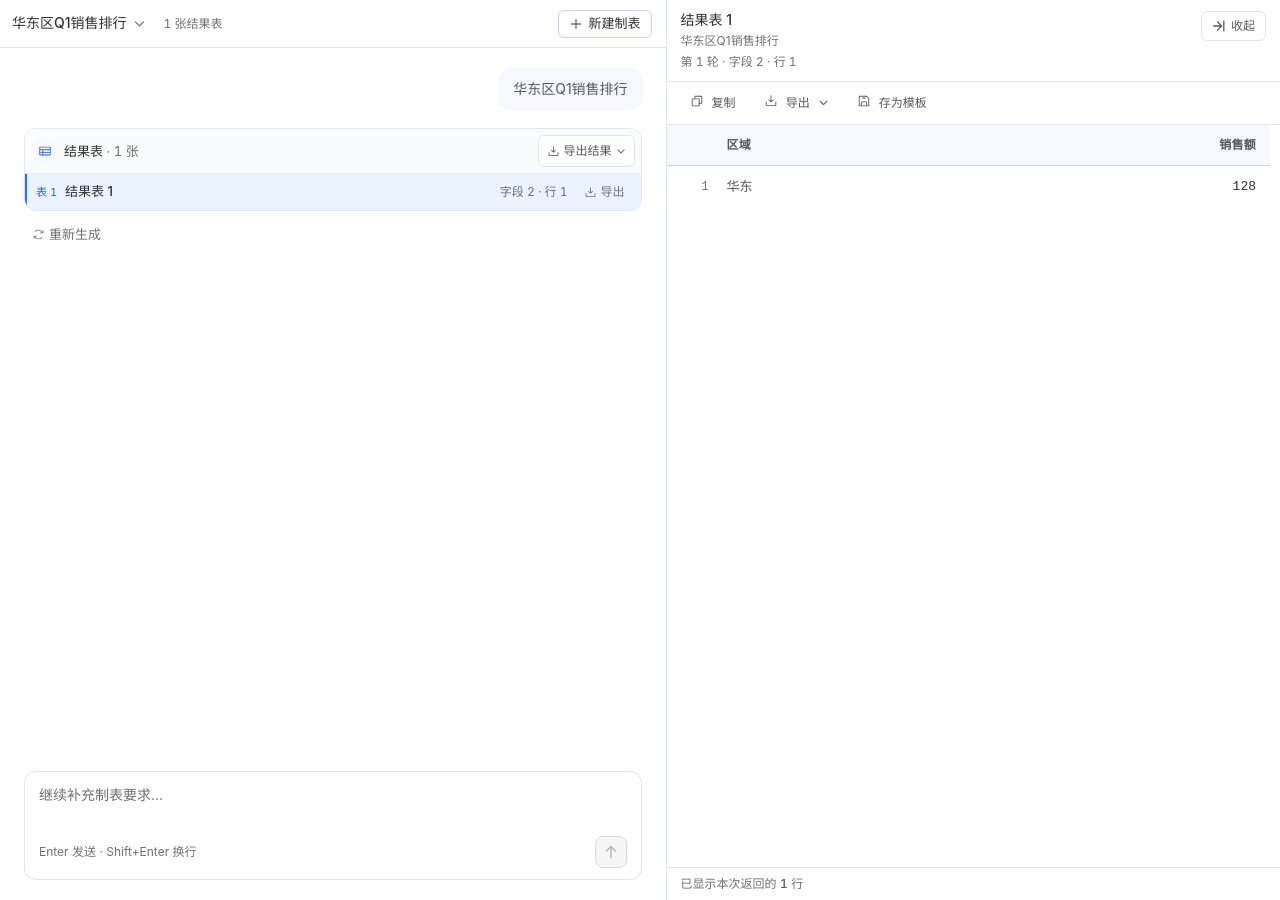
Test: TableSessionView › switches sessions from the header instead of a right-hand rail
This screenshot has width=1280, height=900.
Click the button with aria-label "切换制表会话": (79, 24) left=4, top=9, right=154, bottom=38
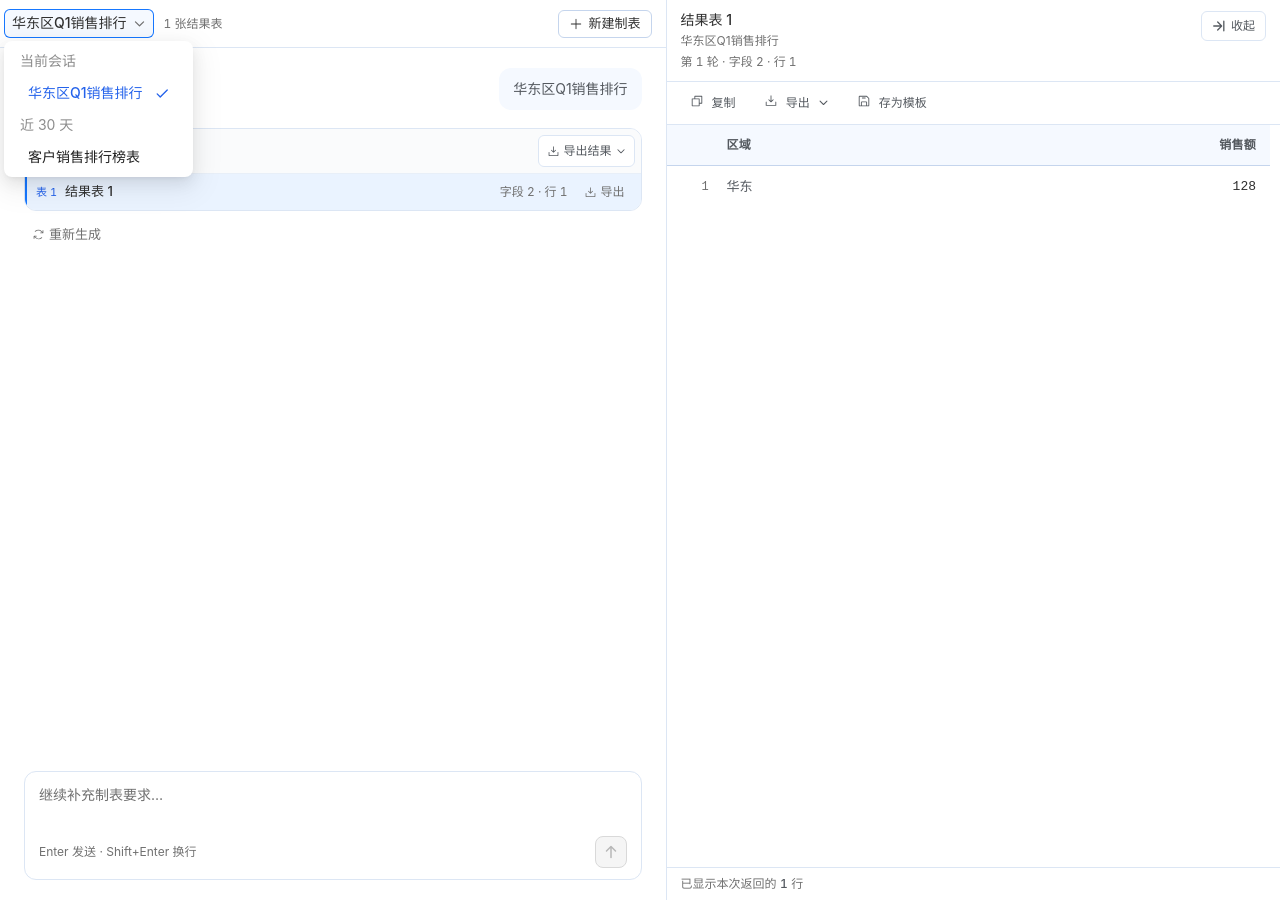
Check: the text "客户销售排行榜表" is shown, box left=28, top=146, right=140, bottom=168
Check: the text "当前会话" is shown, box left=20, top=52, right=76, bottom=69
